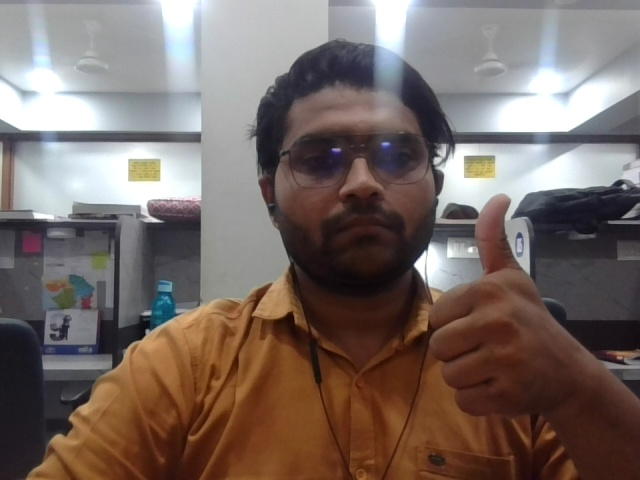ThumbsUp: (422, 190, 544, 430)
